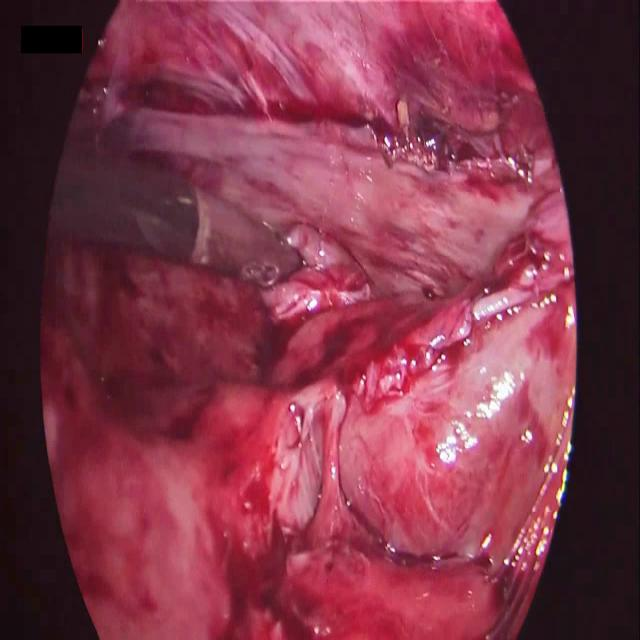surgical-area: (39, 0, 574, 636)
surgical-tool: (47, 132, 302, 286)
